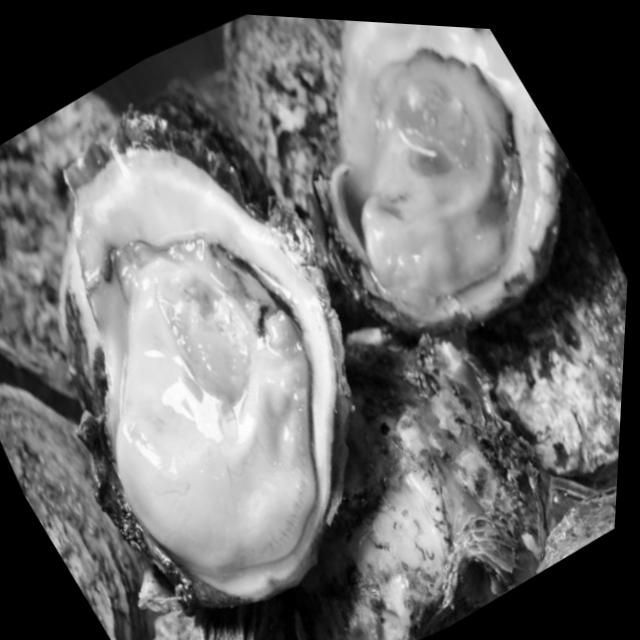Oyster-Indeterminate: (295, 327, 545, 640), (470, 220, 627, 475), (224, 15, 365, 298), (0, 384, 144, 640), (0, 92, 117, 394), (154, 596, 297, 640)
Oyster-Open: (60, 119, 351, 610), (330, 20, 563, 329)
